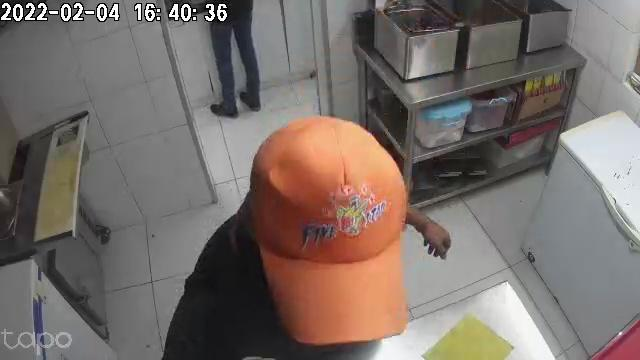no_gloves: (414, 212, 451, 261)
